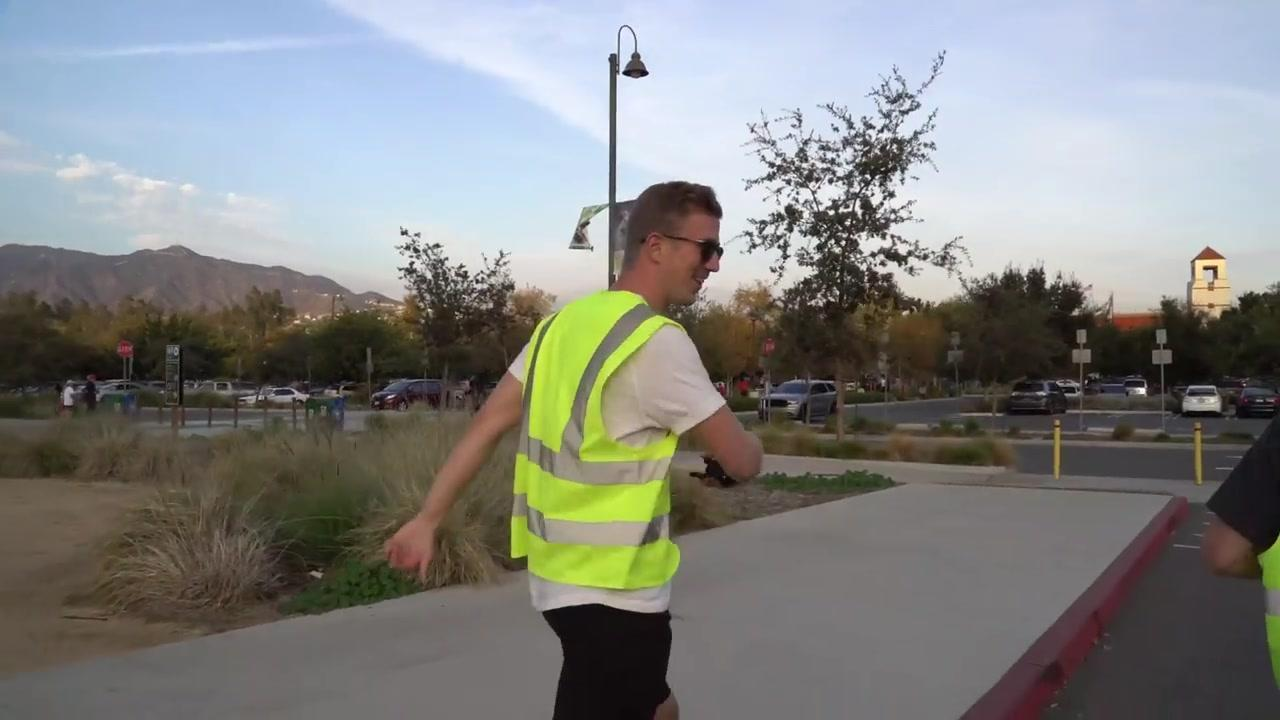vest: (507, 291, 682, 593), (1255, 520, 1278, 684)
